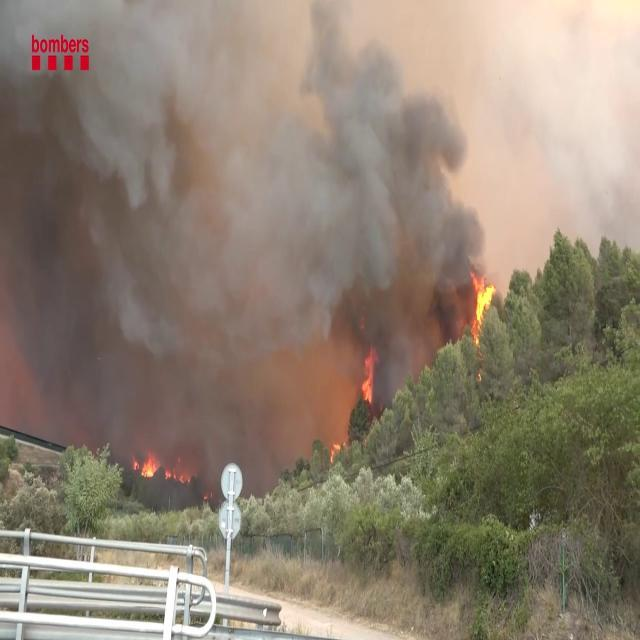Fire: (470, 270, 498, 342), (358, 340, 378, 411)
Smoke: (0, 0, 484, 460)
